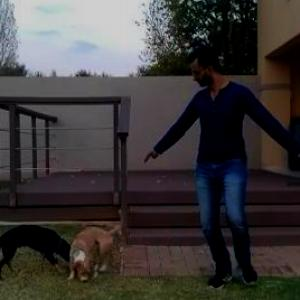land: (136, 44, 299, 294)
